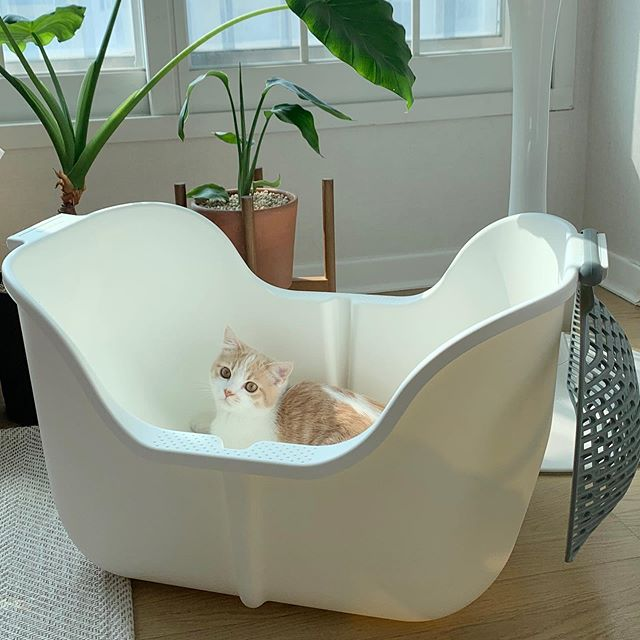cat: (197, 323, 298, 424)
